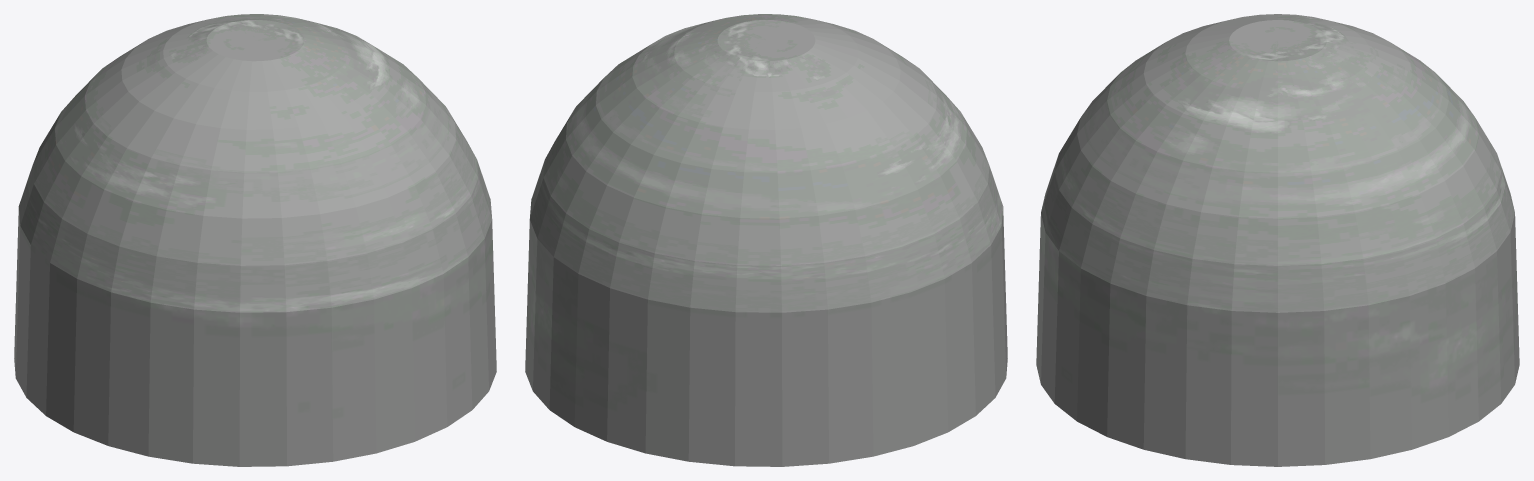
File: skydome.obj
The picture shows the model from 3 angles, left to right: view 1: azimuth 30°, elevation 25°; view 2: azimuth 150°, elevation 25°; view 3: azimuth 270°, elevation 25°; orthographic projection.
Visible parts, largest first — view 1: Sphere.002; view 2: Sphere.002; view 3: Sphere.002.
Part boxes in pixels (x1,y1,x2,y2): Sphere.002: (14,14,496,466); Sphere.002: (525,14,1007,466); Sphere.002: (1036,14,1519,466).
Size of the model in its own units: 2 by 1.48 by 2.
